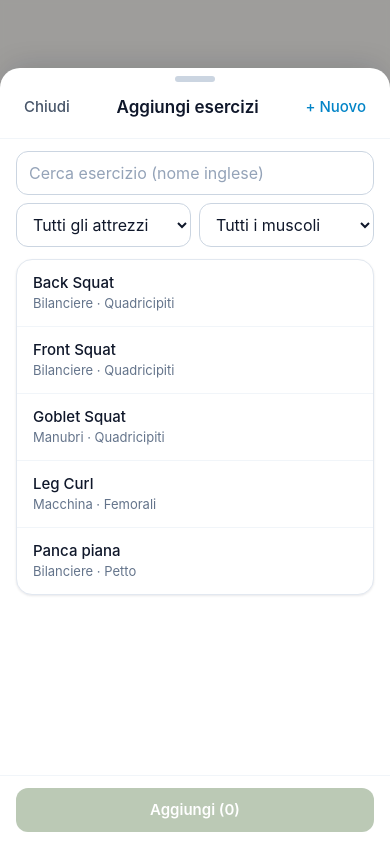
Test: ExercisePicker offline nell'IPA › + Nuovo mostra Non disponibile offline e non apre il form
Step 1. Click the button "+ Nuovo" → x=336, y=108, box [293, 86, 378, 130]
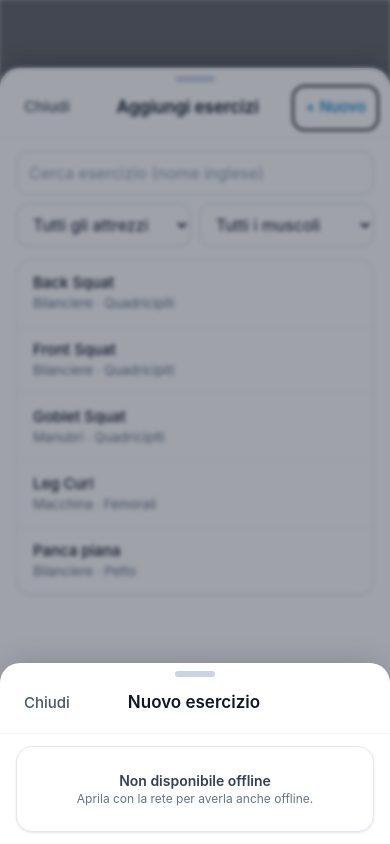
Expected: the text "Non disponibile offline" is shown, [119, 772, 271, 789]
